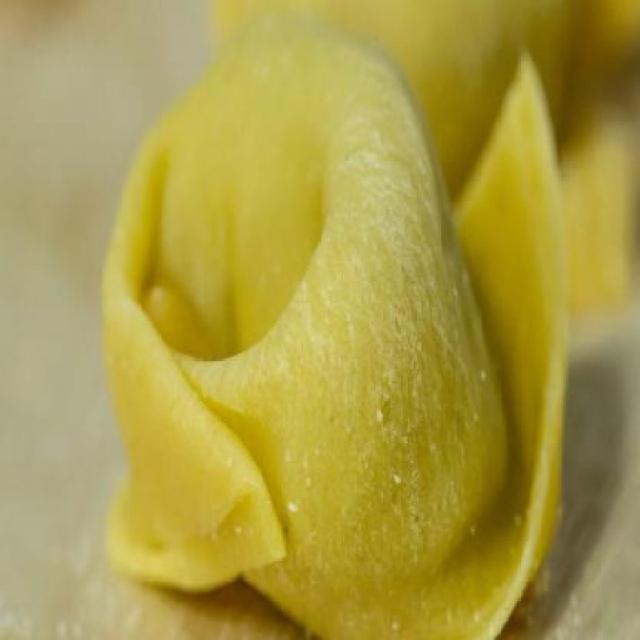Tortellini in broth: (94, 46, 572, 614)
